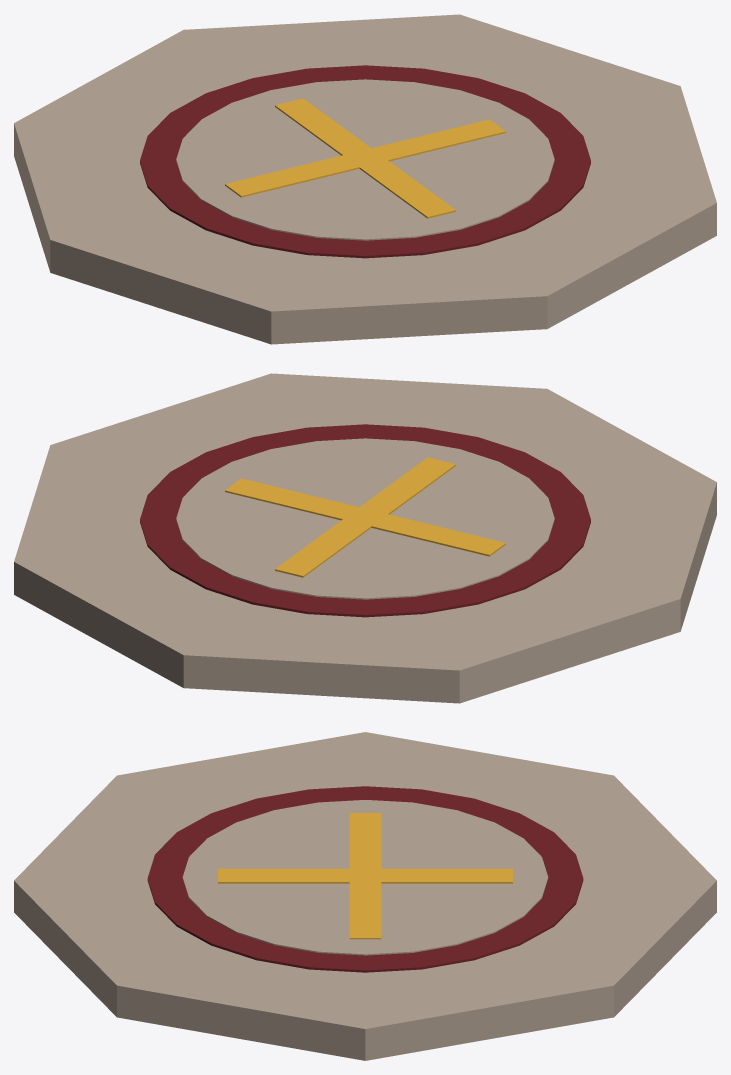
File: plataforma-pouso-n1.glb
The picture shows the model from 3 angles, top to bottom: view 1: azimuth 30°, elevation 25°; view 2: azimuth 150°, elevation 25°; view 3: azimuth 270°, elevation 25°; orthographic projection. The views are drawn at different scales.
Visible parts, largest first — view 1: Cylinder, Cylinder.002, Cylinder.001, Cube, Cube.001; view 2: Cylinder, Cylinder.002, Cylinder.001, Cube, Cube.001; view 3: Cylinder, Cylinder.002, Cylinder.001, Cube.001, Cube.
Part boxes in pixels (box(x1,y1,x2,y2)): Cylinder: box(14, 14, 716, 344); Cylinder.002: box(176, 79, 554, 240); Cylinder.001: box(140, 65, 590, 258); Cube: box(225, 119, 505, 197); Cube.001: box(275, 98, 455, 218); Cylinder: box(14, 373, 716, 703); Cylinder.002: box(176, 438, 554, 599); Cylinder.001: box(140, 424, 590, 617); Cube: box(225, 478, 505, 556); Cube.001: box(275, 457, 455, 577); Cylinder: box(14, 732, 716, 1060); Cylinder.002: box(182, 800, 548, 955); Cylinder.001: box(147, 786, 583, 972); Cube.001: box(218, 868, 512, 883); Cube: box(349, 813, 381, 939).
Bounding box in the file's own units: 2 × 0.116 × 2.
